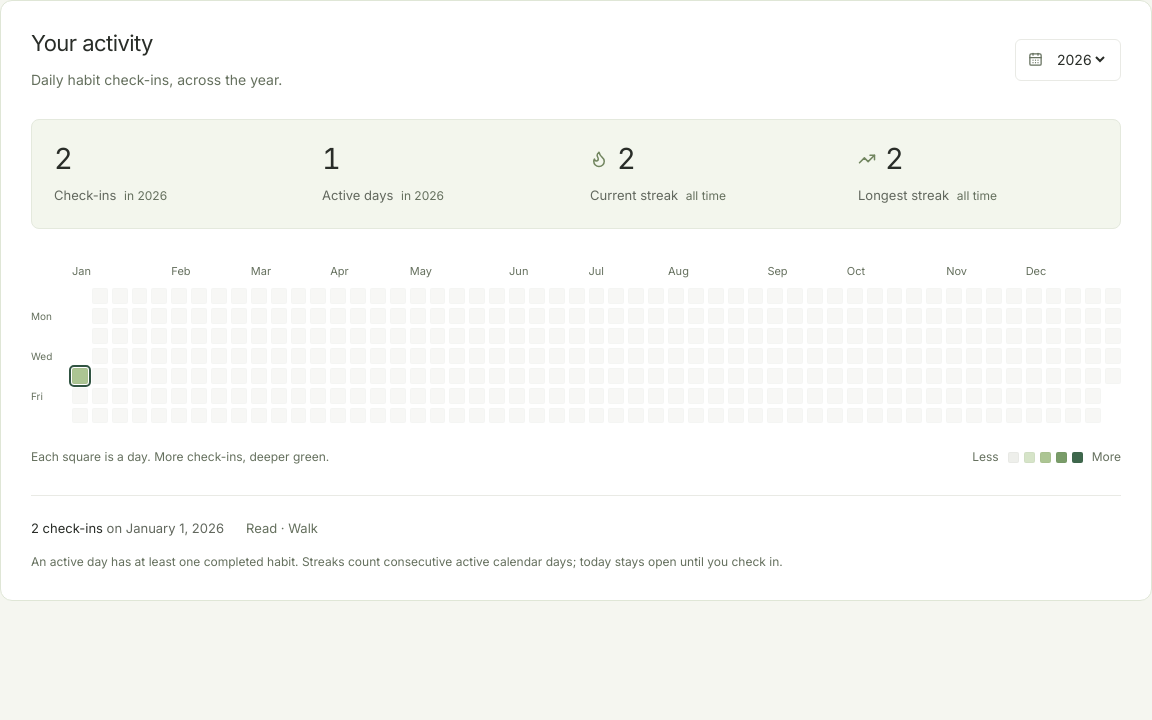
Test: activity calendar interactions › changes years while keeping all-time streaks and updating year-scoped totals
The width and height of the screenshot is (1152, 720).
Select "2025" in the dropdown named "Activity year": (1080, 60) left=1053, top=50, right=1108, bottom=69
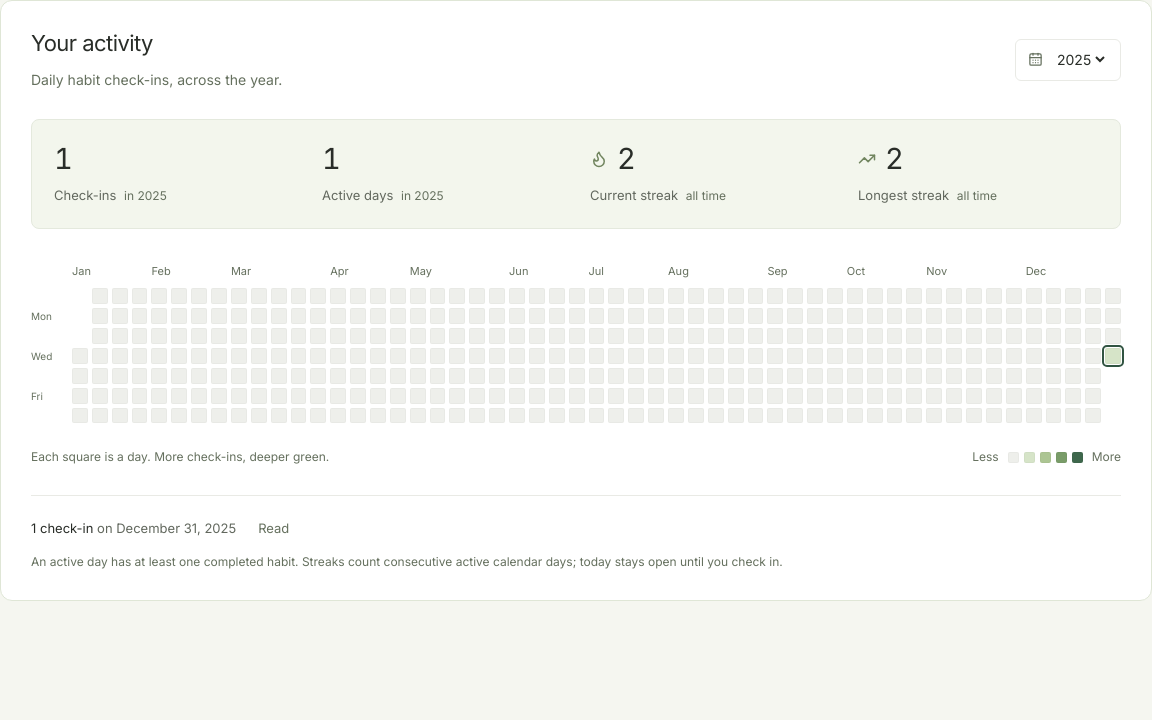
Result: the element with class "activity-day-detail" shows "December 31, 2025" at left=116, top=520, right=236, bottom=536
